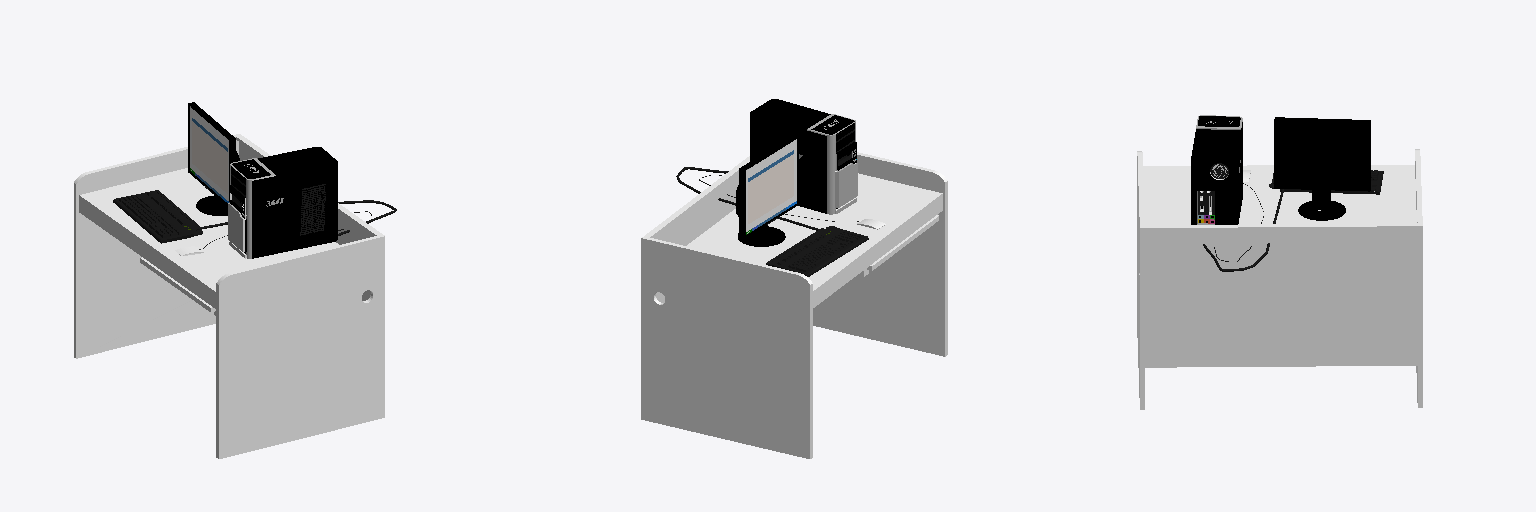
Rendered from Lab+Assignment.obj.
The picture shows the model from 3 angles: view 1: azimuth 30°, elevation 25°; view 2: azimuth 150°, elevation 25°; view 3: azimuth 270°, elevation 25°; orthographic projection.
Visible parts, largest first — view 1: Mesh1 Group1 Model, Mesh52 Group2 Model, Mesh2 Group1 Model, Mesh55 Group2 Model, Mesh8 keyboard1 Group3 Group2 Model; view 2: Mesh1 Group1 Model, Mesh2 Group1 Model, Mesh52 Group2 Model, Mesh55 Group2 Model, Mesh8 keyboard1 Group3 Group2 Model, Mesh54 Group2 Model, Mesh3 Group1 Model; view 3: Mesh1 Group1 Model, Mesh2 Group1 Model, Mesh55 Group2 Model, Mesh52 Group2 Model, Mesh54 Group2 Model.
Part boxes in pixels (left/top/right/bottom): Mesh1 Group1 Model: left=74, top=134, right=384, bottom=458; Mesh52 Group2 Model: left=228, top=147, right=337, bottom=258; Mesh2 Group1 Model: left=79, top=168, right=338, bottom=315; Mesh55 Group2 Model: left=188, top=102, right=239, bottom=205; Mesh8 keyboard1 Group3 Group2 Model: left=113, top=190, right=201, bottom=243; Mesh1 Group1 Model: left=641, top=152, right=947, bottom=458; Mesh2 Group1 Model: left=687, top=173, right=942, bottom=307; Mesh52 Group2 Model: left=750, top=99, right=857, bottom=214; Mesh55 Group2 Model: left=736, top=135, right=798, bottom=237; Mesh8 keyboard1 Group3 Group2 Model: left=766, top=228, right=868, bottom=276; Mesh54 Group2 Model: left=738, top=225, right=785, bottom=246; Mesh3 Group1 Model: left=857, top=215, right=938, bottom=276; Mesh1 Group1 Model: left=1137, top=149, right=1422, bottom=409; Mesh2 Group1 Model: left=1143, top=165, right=1416, bottom=224; Mesh55 Group2 Model: left=1274, top=117, right=1370, bottom=191; Mesh52 Group2 Model: left=1191, top=115, right=1242, bottom=224; Mesh54 Group2 Model: left=1298, top=184, right=1345, bottom=220.
Bounding box in the file's own units: 37.74 × 40.05 × 41.52.